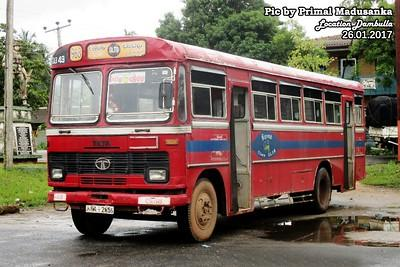bus: (31, 37, 371, 239)
